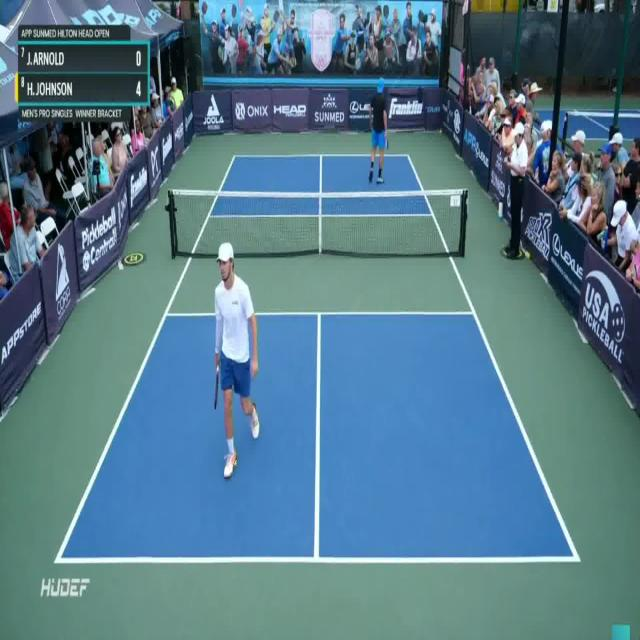Court: (57, 154, 578, 562)
